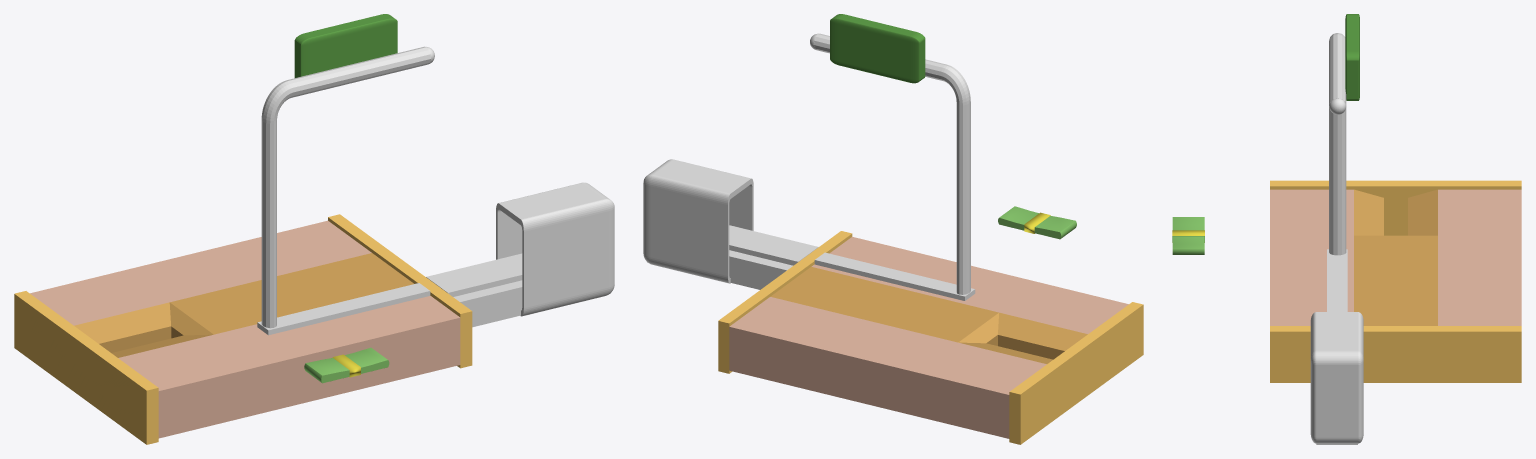
3 views of the same model, side by side, from view 1: azimuth 30°, elevation 25°; view 2: azimuth 150°, elevation 25°; view 3: azimuth 270°, elevation 25° (orthographic). The views are drawn at different scales.
Parts seen in each view (by area): view 1: Cube.003, Cube.001, Cube.011, Cube.013, Cube.002, Cube.007, Cube.025, Cube.005, Cube.014, Cube, Cube.012, Cube.010 (+3 smaller); view 2: Cube.001, Cube.011, Cube.003, Cube.013, Cube.002, Cube.025, Cube.007, Cube.004, Cube.014, Cube, Cube.012, Cube.010 (+3 smaller); view 3: Cube.001, Cube.014, Cube.003, Cube.002, Cube.011, Cube.007, Cube.013, Cube.025, Cube.004, Cube.005, Cube, Box01.
Part boxes in pixels (<box>): Cube.003: <box>118,296,460,438</box>; Cube.001: <box>30,220,371,325</box>; Cube.011: <box>496,182,614,316</box>; Cube.013: <box>14,291,158,444</box>; Cube.002: <box>170,253,413,334</box>; Cube.007: <box>261,46,430,328</box>; Cube.025: <box>294,14,397,77</box>; Cube.005: <box>74,302,171,352</box>; Cube.014: <box>328,214,472,368</box>; Cube: <box>257,283,430,335</box>; Cube.012: <box>426,253,522,296</box>; Cube.010: <box>453,280,610,327</box>; Cube.001: <box>729,297,1046,438</box>; Cube.011: <box>643,159,753,283</box>; Cube.003: <box>811,236,1128,333</box>; Cube.013: <box>1009,302,1143,444</box>; Cube.002: <box>770,266,998,342</box>; Cube.025: <box>830,14,925,83</box>; Cube.007: <box>813,33,970,294</box>; Cube.004: <box>998,312,1087,359</box>; Cube.014: <box>718,231,852,373</box>; Cube: <box>814,252,975,300</box>; Cube.012: <box>729,225,818,265</box>; Cube.010: <box>647,250,792,289</box>; Cube.001: <box>1438,189,1521,325</box>; Cube.014: <box>1270,326,1521,382</box>; Cube.003: <box>1270,189,1353,325</box>; Cube.002: <box>1354,235,1437,325</box>; Cube.011: <box>1310,312,1363,443</box>; Cube.007: <box>1329,33,1346,255</box>; Cube.013: <box>1270,180,1521,235</box>; Cube.025: <box>1345,14,1359,100</box>; Cube.004: <box>1354,189,1383,235</box>; Cube.005: <box>1408,189,1437,235</box>; Cube: <box>1327,249,1347,311</box>; Box01: <box>1172,217,1204,254</box>.
Size of the model in its own units: 326 by 208 by 211.
